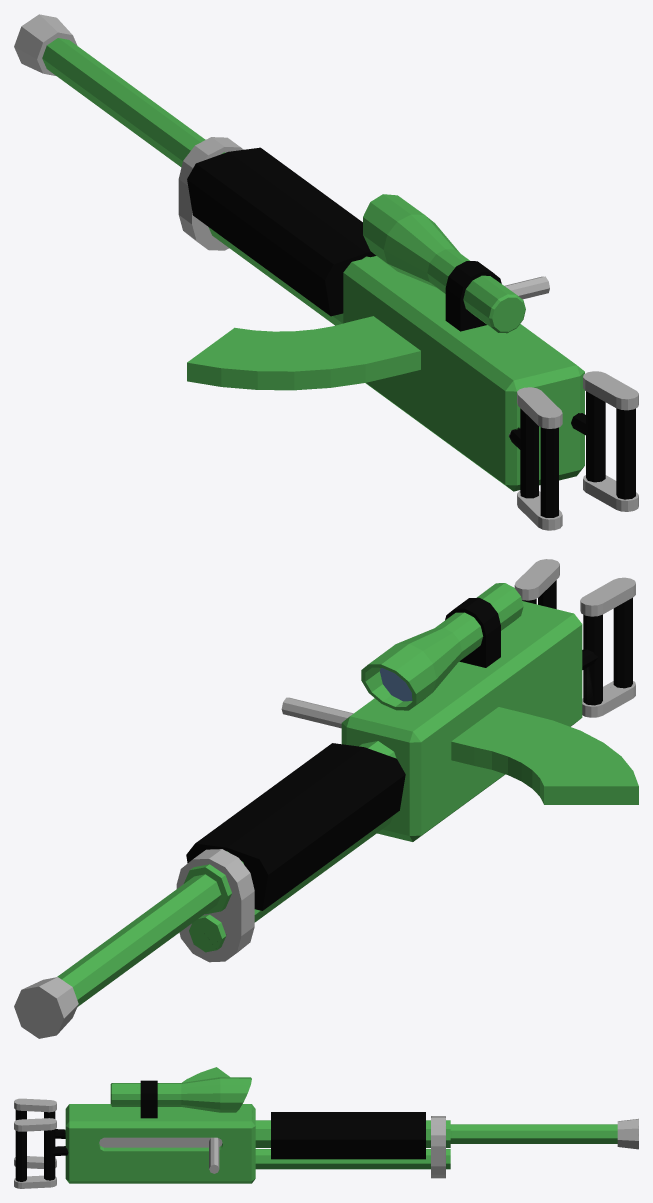
Rendered from lvl1_machine_gun.glb.
The picture shows the model from 3 angles, top to bottom: view 1: azimuth 30°, elevation 25°; view 2: azimuth 150°, elevation 25°; view 3: azimuth 270°, elevation 25°; orthographic projection. The views are drawn at different scales.
Parts seen in each view (by area): view 1: Machine Gun; view 2: Machine Gun; view 3: Machine Gun.
Boxes of the visible parts, left/top/right/bottom form: Machine Gun: left=14, top=14, right=638, bottom=530; Machine Gun: left=14, top=559, right=638, bottom=1038; Machine Gun: left=14, top=1067, right=638, bottom=1188.
Bounding box in the file's own units: 1.21 × 0.5615 × 3.26.
1 material, 1 textured.
